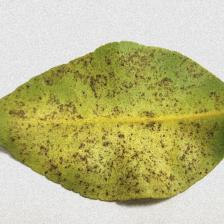canker: (50, 80, 199, 179)
